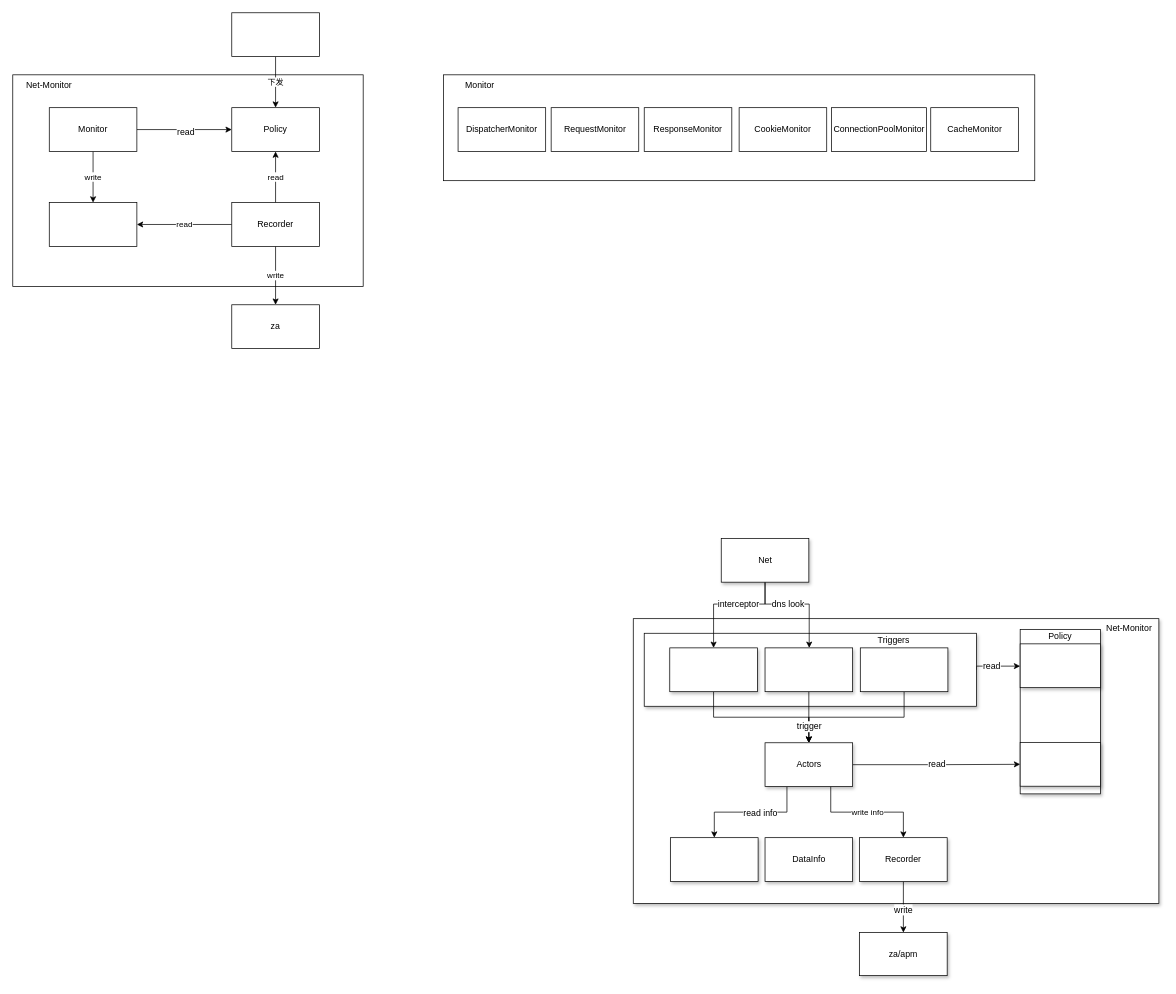
Image size: 1176x994. Some labels were removed from this diagram. Each missing label, with the centre of its shape:
"ActorPolicy" goes at point 1061,765.
"Cloud" goes at point 275,34.
"Data Repo" goes at point 93,224.
"DnsLookupTrigger" goes at point 809,670.
"InterceptTrigger" goes at point 714,670.
"Monitors" goes at point 714,860.
"TimedTrigger" goes at point 904,670.
"TriggerPolicy" goes at point 1061,666.
